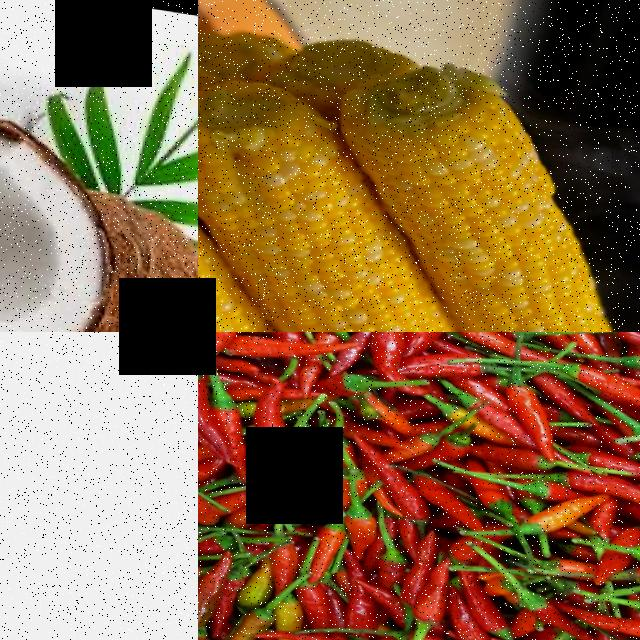chilli: (237, 373, 302, 460), (495, 372, 560, 454), (556, 354, 640, 413), (369, 454, 435, 525), (537, 461, 640, 498), (198, 539, 238, 634), (198, 373, 239, 465), (401, 553, 452, 625), (296, 510, 348, 579), (358, 332, 415, 379), (271, 624, 398, 640), (198, 332, 262, 356)
coconut: (0, 76, 126, 332), (34, 188, 198, 332)
corn: (321, 86, 591, 283), (198, 84, 396, 315), (445, 246, 637, 332), (282, 292, 507, 332)
